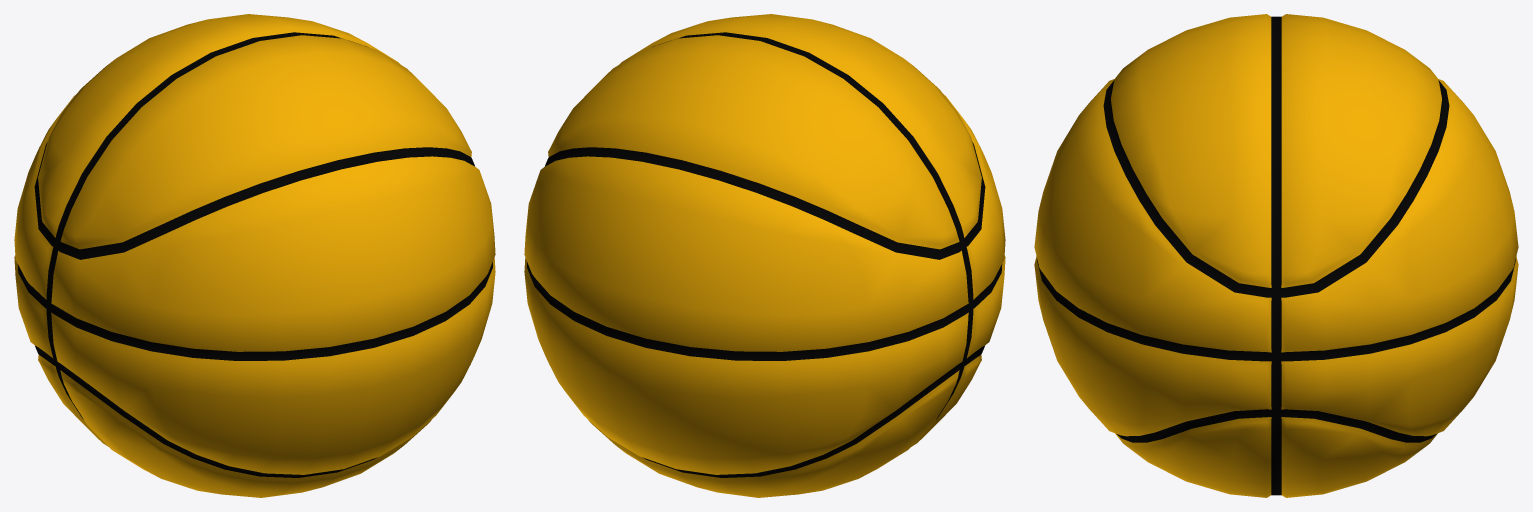
3 renders of one model, left to right at view 1: azimuth 30°, elevation 25°; view 2: azimuth 150°, elevation 25°; view 3: azimuth 270°, elevation 25°, orthographic.
Parts seen in each view (by area): view 1: Object_4_mesh0, Object_5_mesh0; view 2: Object_4_mesh0, Object_5_mesh0; view 3: Object_4_mesh0, Object_5_mesh0.
Part boxes in pixels (bbox=[...]): Object_4_mesh0: bbox=[14, 14, 495, 497]; Object_5_mesh0: bbox=[17, 32, 492, 477]; Object_4_mesh0: bbox=[524, 14, 1005, 497]; Object_5_mesh0: bbox=[527, 32, 1002, 477]; Object_4_mesh0: bbox=[1034, 14, 1518, 497]; Object_5_mesh0: bbox=[1037, 16, 1515, 495].
Bounding box in the file's own units: 1632 × 1637 × 1637.
